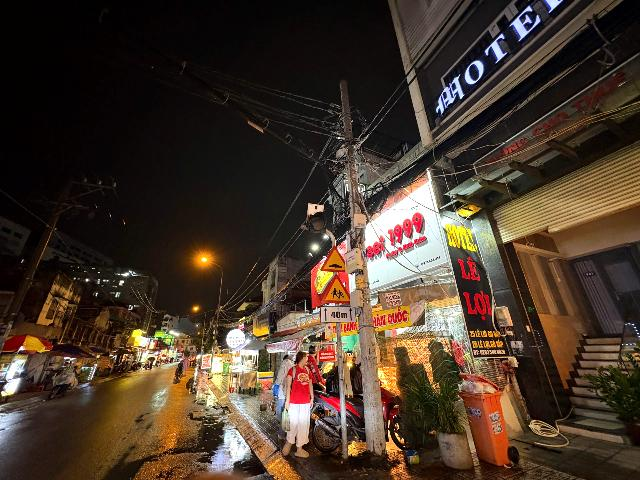duong-co-go-giam-toc: (320, 246, 346, 273)
tre-em-qua-duong: (321, 276, 350, 303)
